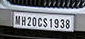0: (32, 17, 37, 27)
1: (49, 17, 54, 29)
2: (27, 16, 32, 26)
3: (60, 19, 65, 28)
8: (65, 19, 71, 29)
9: (53, 18, 60, 28)
C: (37, 16, 43, 28)
H: (21, 15, 27, 26)
S: (43, 17, 48, 28)
